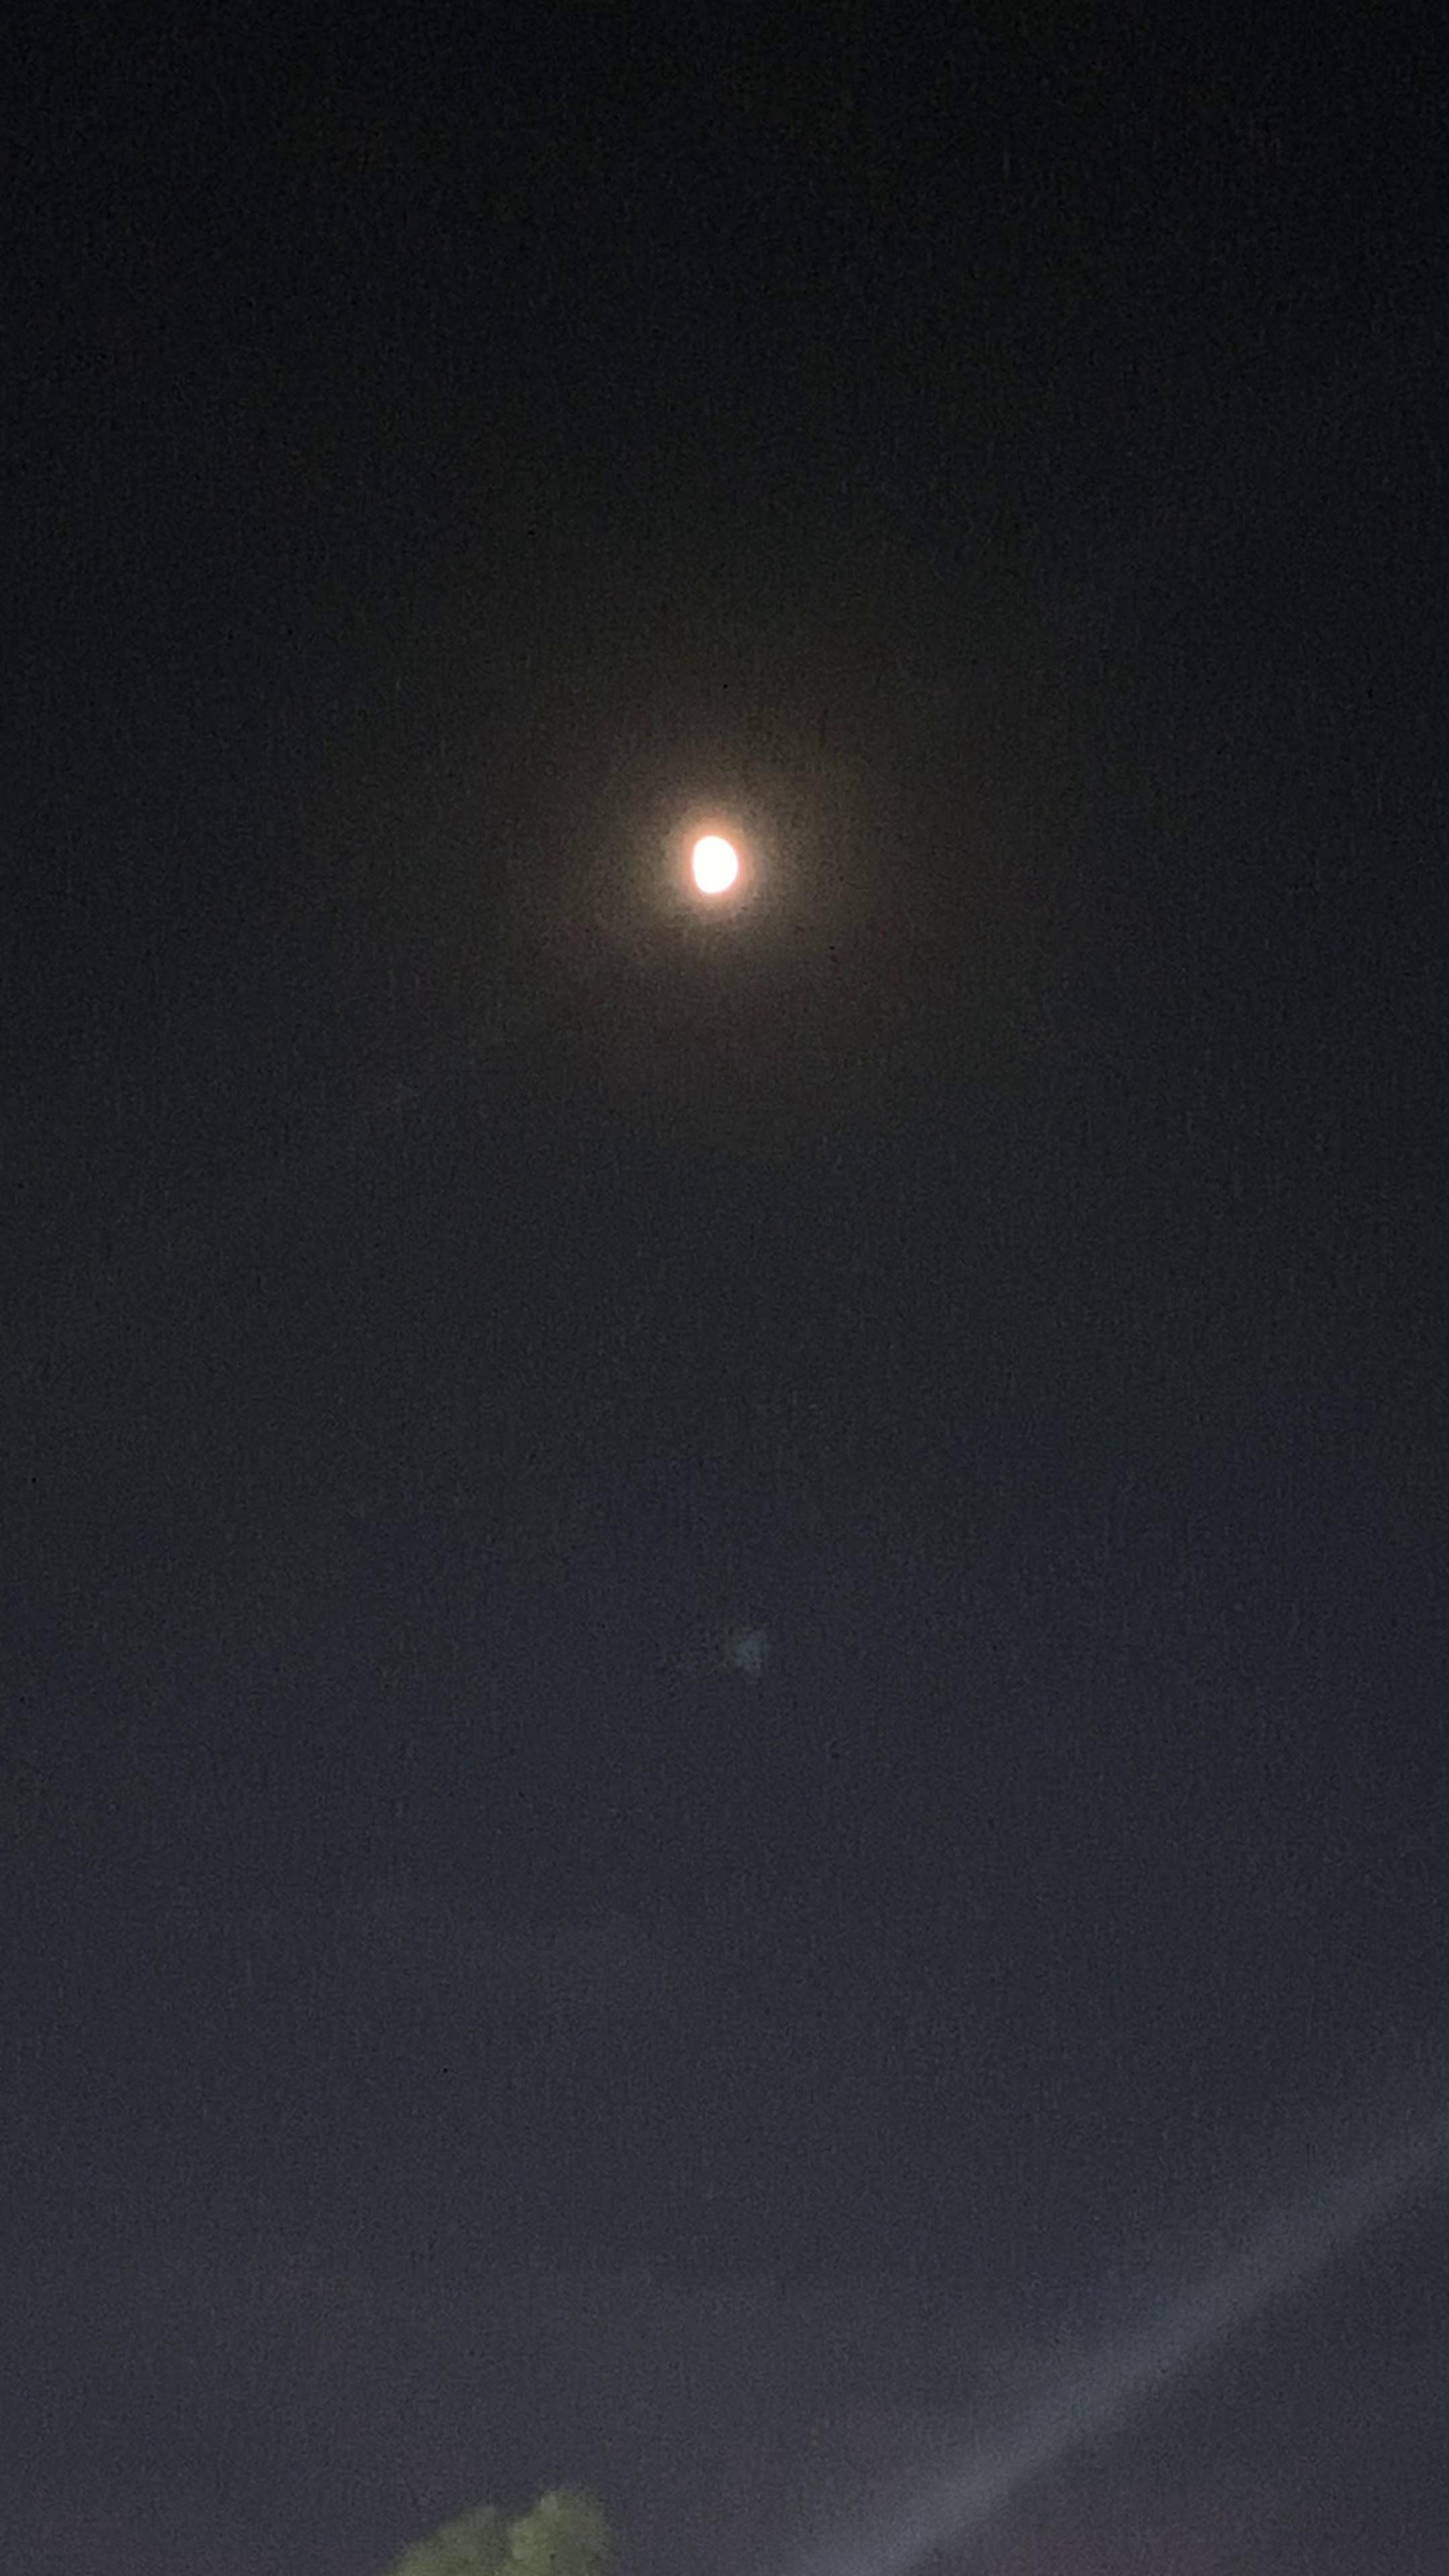moon: (662, 803, 778, 931)
